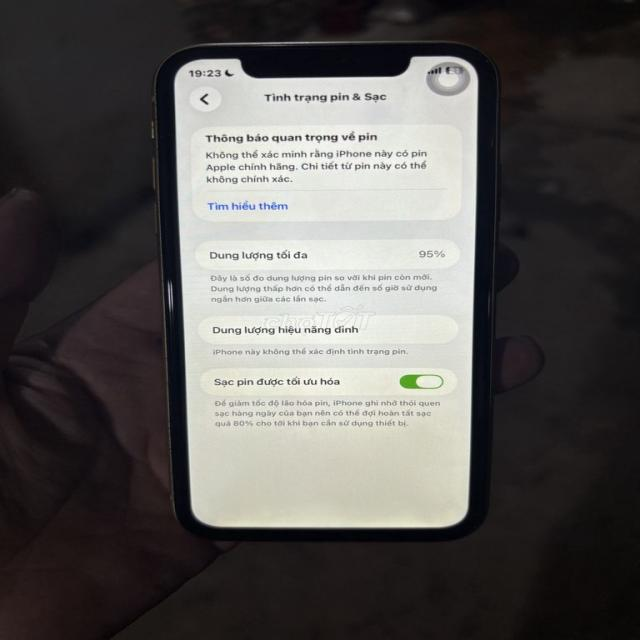gen_11: (146, 36, 509, 549)
